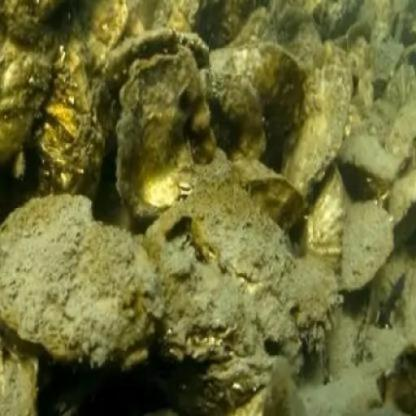Oyster-Closed: (0, 193, 300, 370), (189, 185, 344, 317), (118, 58, 199, 217), (203, 45, 310, 165), (92, 34, 209, 139), (36, 43, 105, 198), (284, 78, 352, 202), (0, 51, 55, 169), (340, 202, 393, 292), (305, 165, 345, 270), (69, 0, 127, 66), (340, 135, 400, 183), (247, 176, 298, 229), (385, 106, 416, 168), (390, 173, 416, 226)
